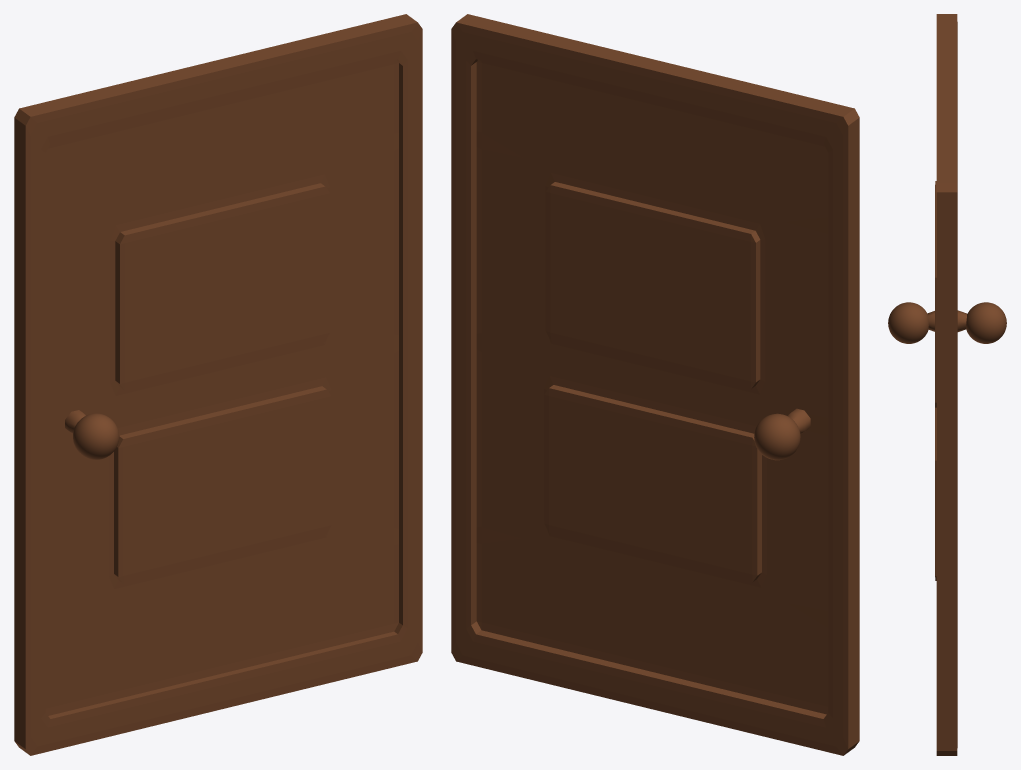
Rendered from door_v2.fbx.
The picture shows the model from 3 angles, left to right: view 1: azimuth 30°, elevation 25°; view 2: azimuth 150°, elevation 25°; view 3: azimuth 270°, elevation 25°; orthographic projection. The views are drawn at different scales.
Parts seen in each view (by area): view 1: Door, DoorKnob1; view 2: Door, DoorKnob2; view 3: Door, DoorKnob2, DoorKnob1, DoorHandle.
Part boxes in pixels (bbox=[...]): Door: bbox=[14, 14, 422, 755]; DoorKnob1: bbox=[73, 413, 119, 459]; Door: bbox=[451, 14, 859, 755]; DoorKnob2: bbox=[754, 413, 800, 460]; Door: bbox=[935, 14, 957, 755]; DoorKnob2: bbox=[966, 302, 1006, 343]; DoorKnob1: bbox=[888, 302, 928, 343]; DoorHandle: bbox=[927, 310, 966, 331].
Size of the model in its own units: 195 by 300 by 56.42.
